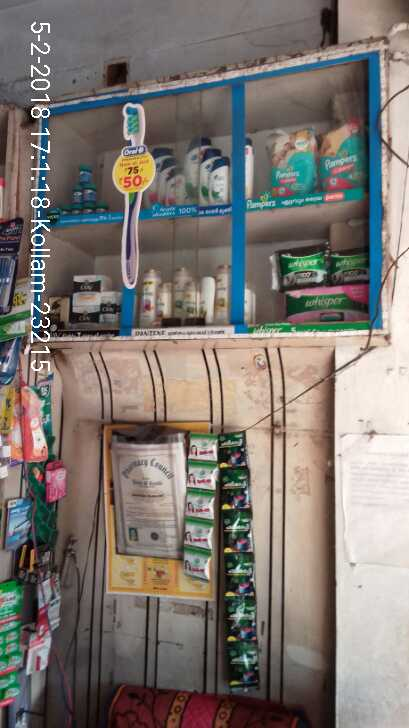vicks: (59, 161, 112, 219)
